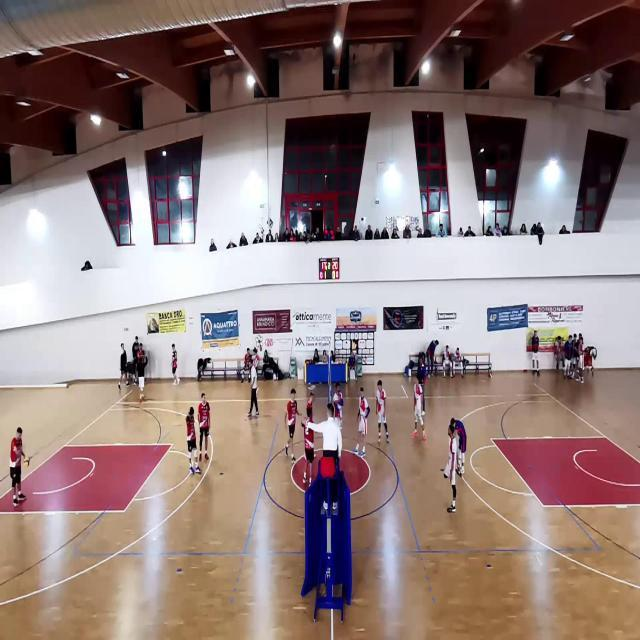volleyball: (24, 456, 32, 466)
